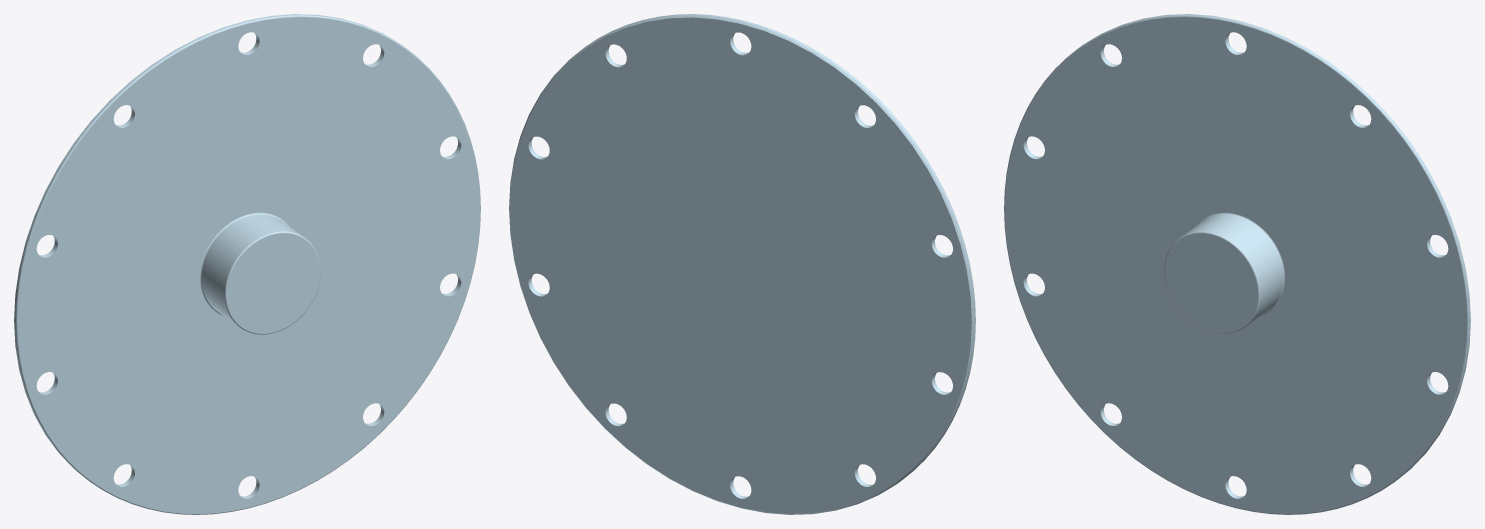
The model's file is hub-cs.glb.
3 renders of one model, left to right at view 1: azimuth 30°, elevation 25°; view 2: azimuth 150°, elevation 25°; view 3: azimuth 330°, elevation 25°, orthographic.
Visible parts, largest first — view 1: Part 1; view 2: Part 1; view 3: Part 1.
Part boxes in pixels (<box>): Part 1: <box>14,14,480,514</box>; Part 1: <box>509,14,975,514</box>; Part 1: <box>1004,14,1470,514</box>.
Bounding box in the file's own units: 0.1645 × 0.1645 × 0.017.
